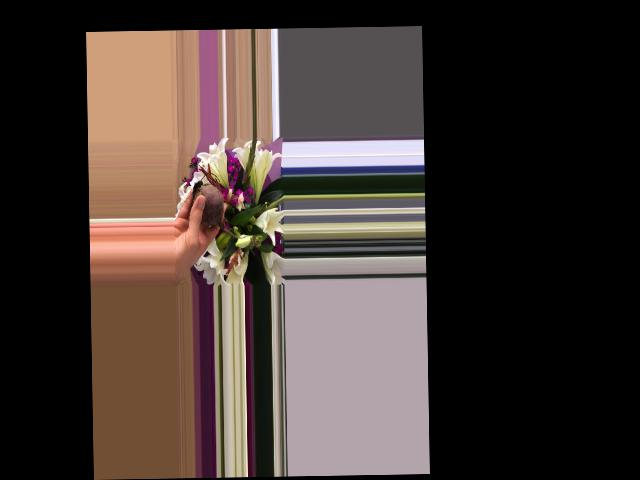beet: (192, 172, 246, 239)
